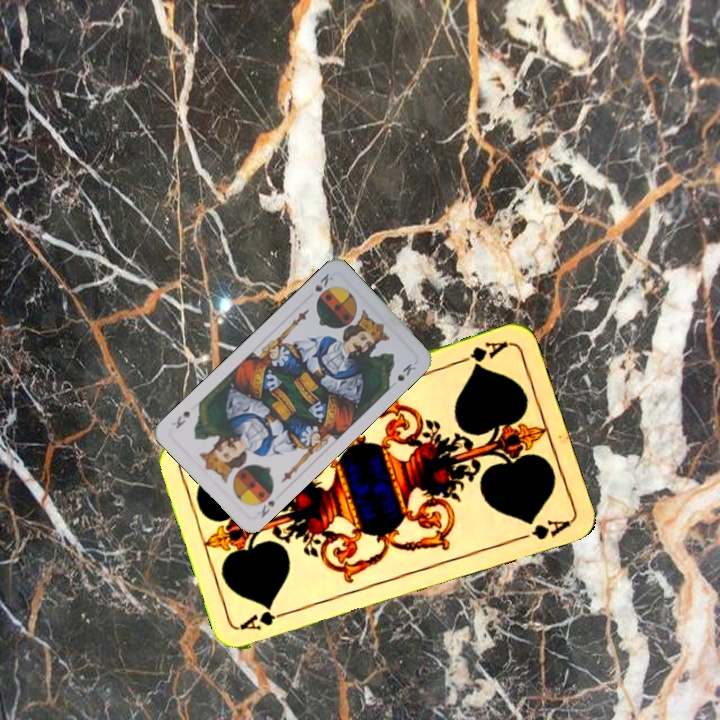GA: (454, 337, 512, 372), (236, 605, 295, 633)
SK: (252, 489, 284, 521), (311, 269, 336, 295)
